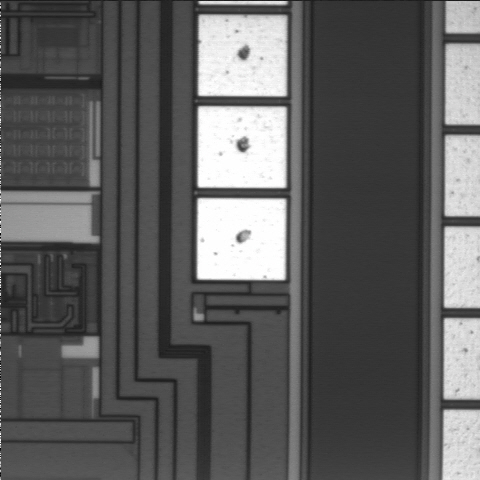pad: (198, 106, 287, 188), (197, 198, 286, 280), (198, 15, 287, 96)
